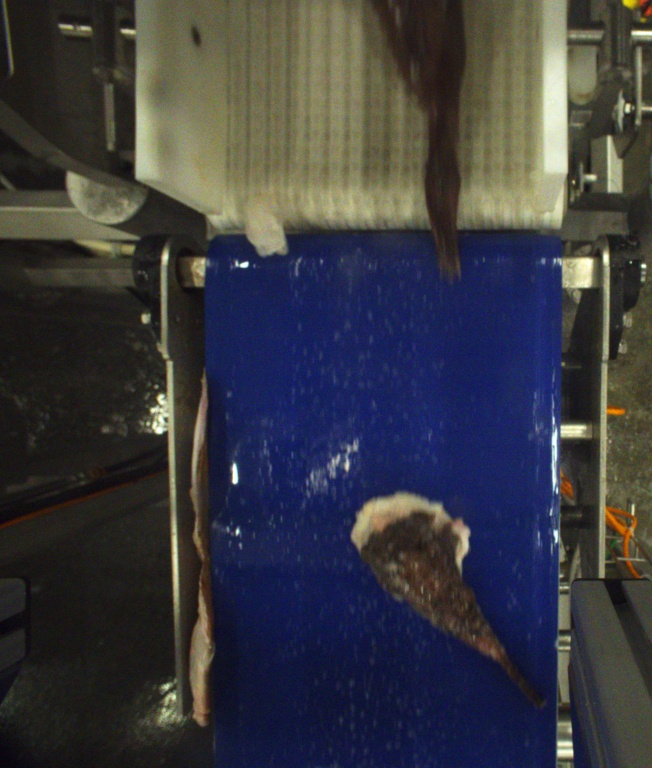ANF: (363, 0, 462, 284)
